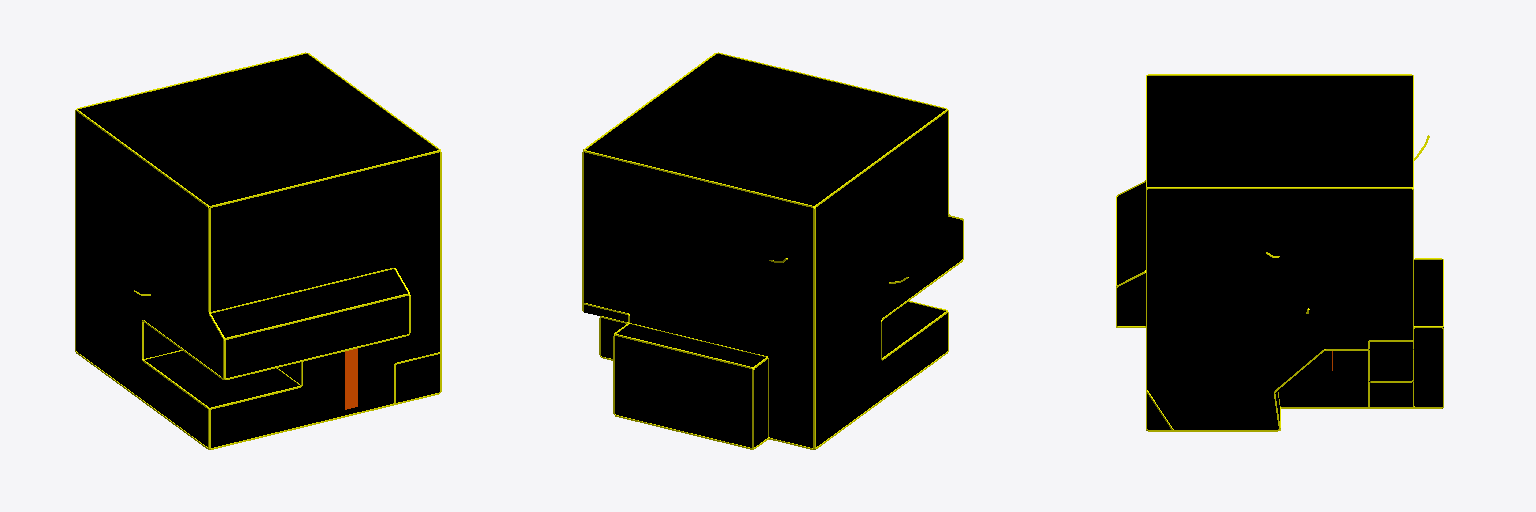
File: map.obj
3 renders of one model, left to right at view 1: azimuth 30°, elevation 25°; view 2: azimuth 150°, elevation 25°; view 3: azimuth 270°, elevation 25°, orthographic.
Parts seen in each view (by area): view 1: Cube_Cube.001, nocol.003_Cube.002, ladderflip_Cube; view 2: Cube_Cube.001, nocol.003_Cube.002; view 3: Cube_Cube.001, nocol.003_Cube.002.
Boxes of the visible parts, box(x1,y1,x2,y2) form: Cube_Cube.001: box(76, 54, 439, 447); nocol.003_Cube.002: box(75, 52, 441, 449); ladderflip_Cube: box(345, 348, 357, 409); Cube_Cube.001: box(584, 54, 962, 447); nocol.003_Cube.002: box(582, 52, 963, 449); Cube_Cube.001: box(1117, 76, 1443, 429); nocol.003_Cube.002: box(1116, 74, 1443, 431).
Bounding box in the file's own units: 53.27 × 48.71 × 57.62.